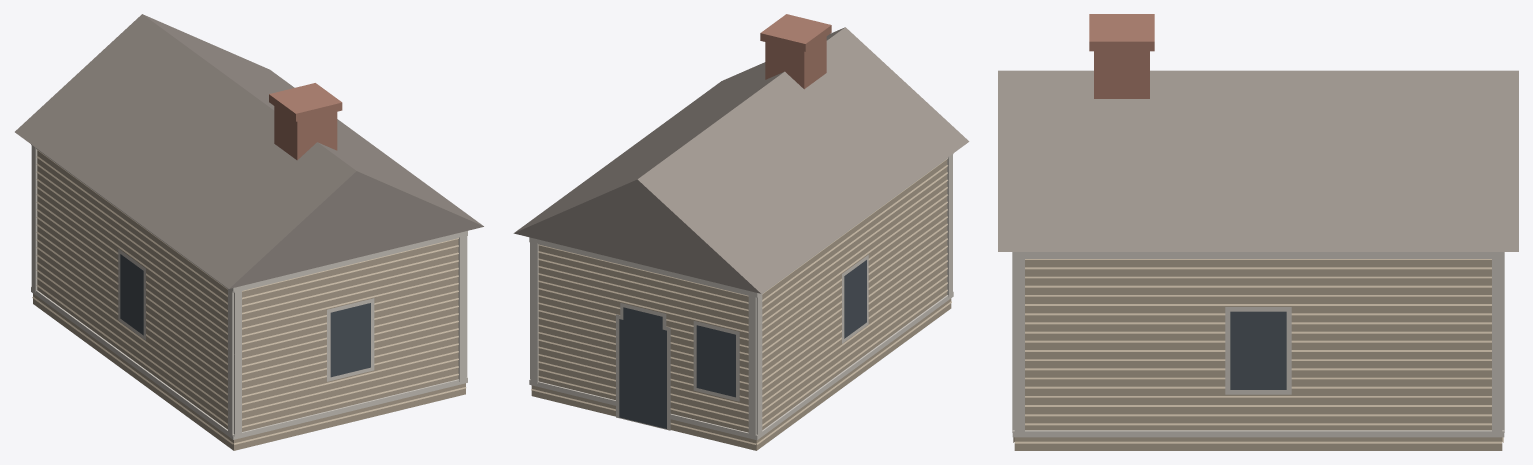
File: inf_shoemaker_shop__inferred_1835.glb
3 renders of one model, left to right at view 1: azimuth 30°, elevation 25°; view 2: azimuth 150°, elevation 25°; view 3: azimuth 270°, elevation 25°, orthographic. The views are drawn at different scales.
Parts seen in each view (by area): view 1: inf_shoemaker_shop__inferred_1835; view 2: inf_shoemaker_shop__inferred_1835; view 3: inf_shoemaker_shop__inferred_1835.
Boxes of the visible parts, <box> form: inf_shoemaker_shop__inferred_1835: <box>15,14,483,450</box>; inf_shoemaker_shop__inferred_1835: <box>513,14,969,450</box>; inf_shoemaker_shop__inferred_1835: <box>998,14,1518,450</box>.
Size of the model in its own units: 5.38 by 5.87 by 7.82.
